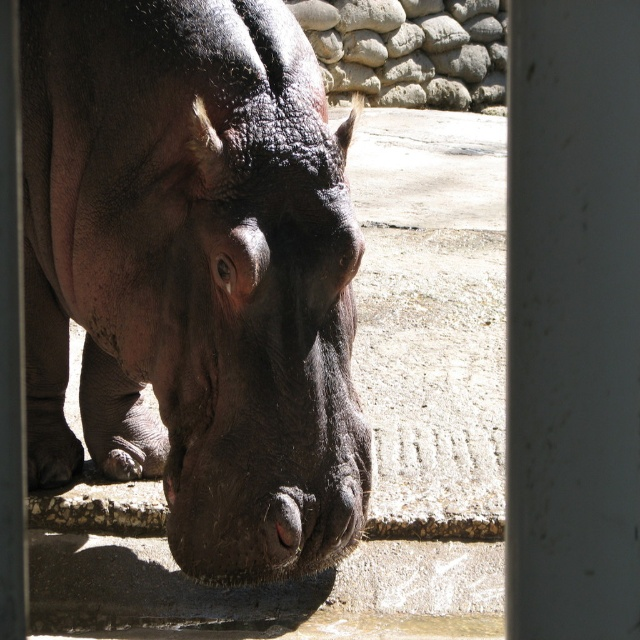Hippopotamus: (23, 0, 373, 596)
